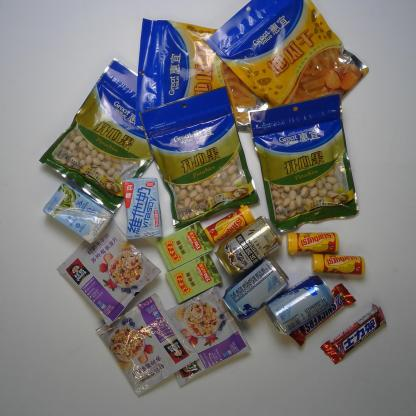Alcohol: (262, 271, 339, 340), (218, 252, 291, 324), (210, 212, 286, 280)
Candy: (152, 214, 216, 275), (160, 249, 226, 306), (201, 202, 258, 247), (307, 252, 369, 279), (282, 230, 343, 257)
Chocolate: (286, 281, 358, 348), (320, 300, 388, 366)
Dried Fruit: (33, 54, 159, 218), (204, 0, 372, 123), (134, 81, 262, 232), (131, 13, 280, 141), (244, 90, 366, 236)
Instant Drink: (52, 213, 163, 330), (91, 288, 203, 400), (160, 283, 254, 389)
Milk: (38, 179, 117, 248), (118, 173, 166, 244)
